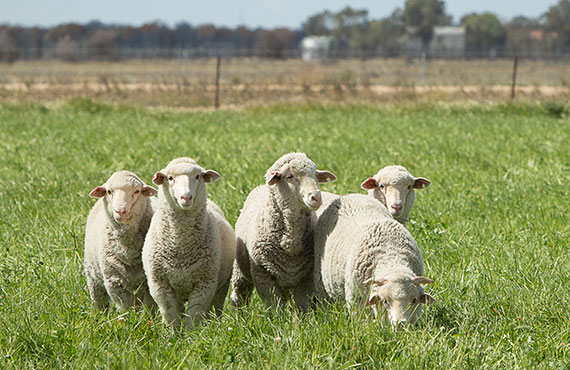sheep: (321, 201, 428, 348), (240, 152, 334, 310), (146, 158, 228, 333), (79, 168, 150, 310), (356, 162, 423, 222)
